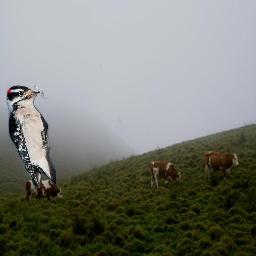Woodpecker: (6, 85, 56, 188)
